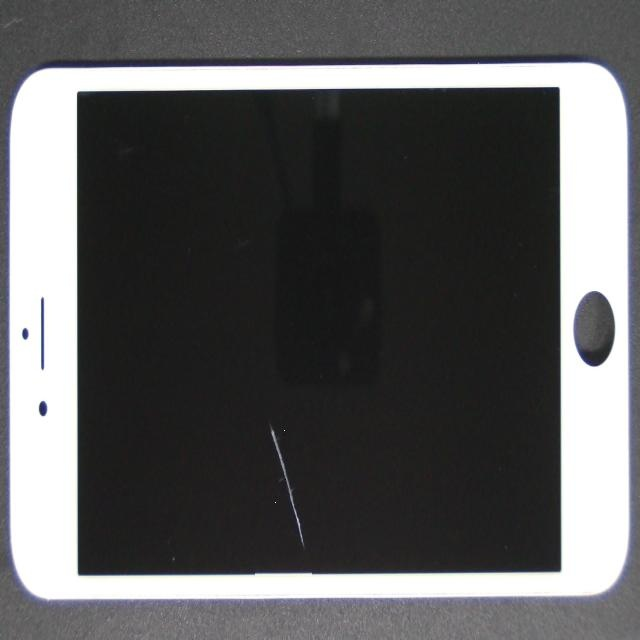scratch: (102, 131, 409, 640)
